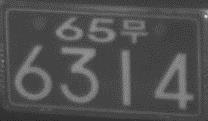1: (109, 48, 145, 107)
3: (59, 46, 100, 105)
4: (154, 51, 194, 111)
5: (86, 16, 115, 44)
6: (14, 44, 52, 101), (54, 15, 83, 42)
무: (120, 18, 147, 44)
